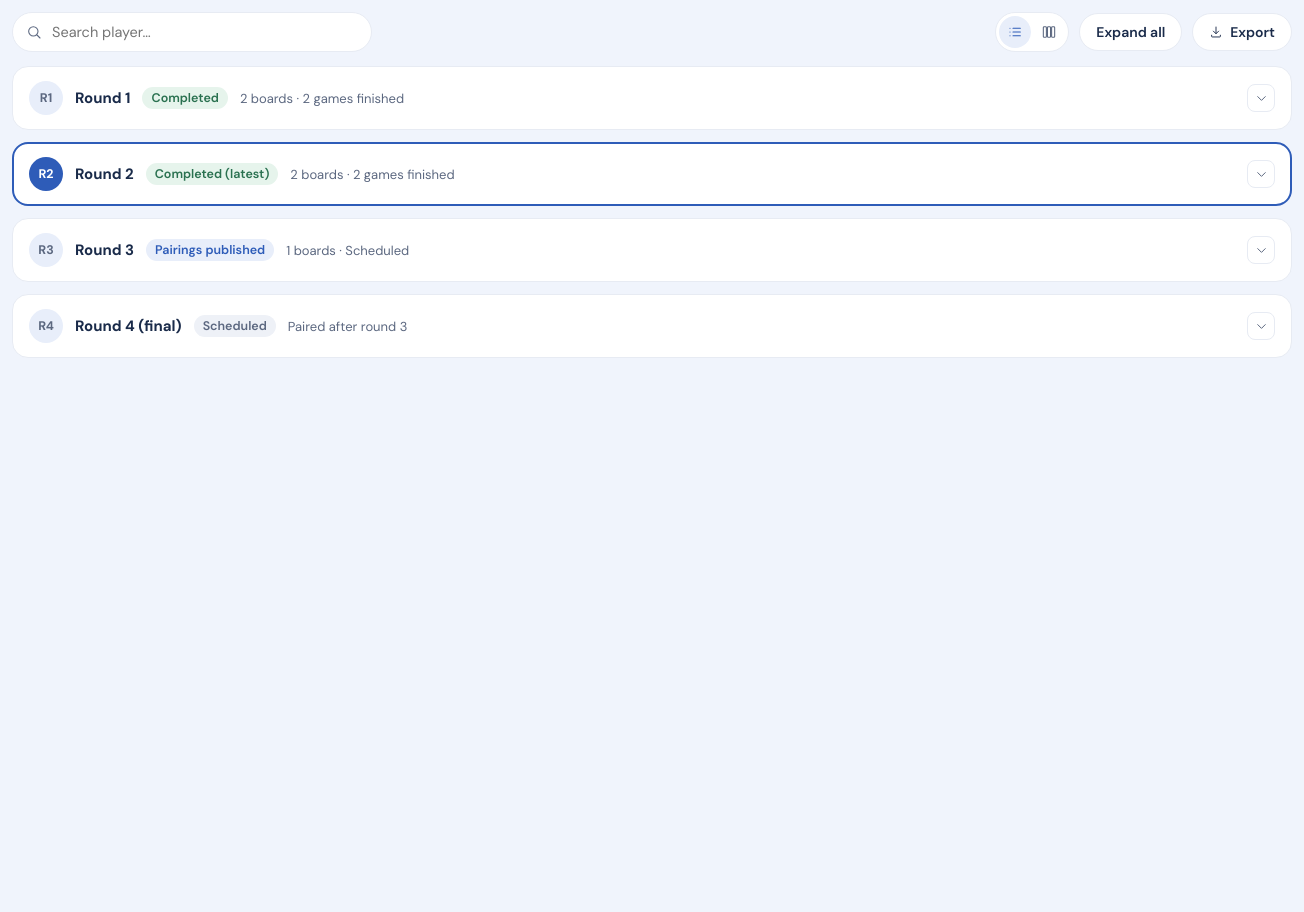
Scenario: the boards themselves › says vs on a board that has not been played
Click the button "Expand all" at (1131, 32), box [1079, 13, 1182, 51]
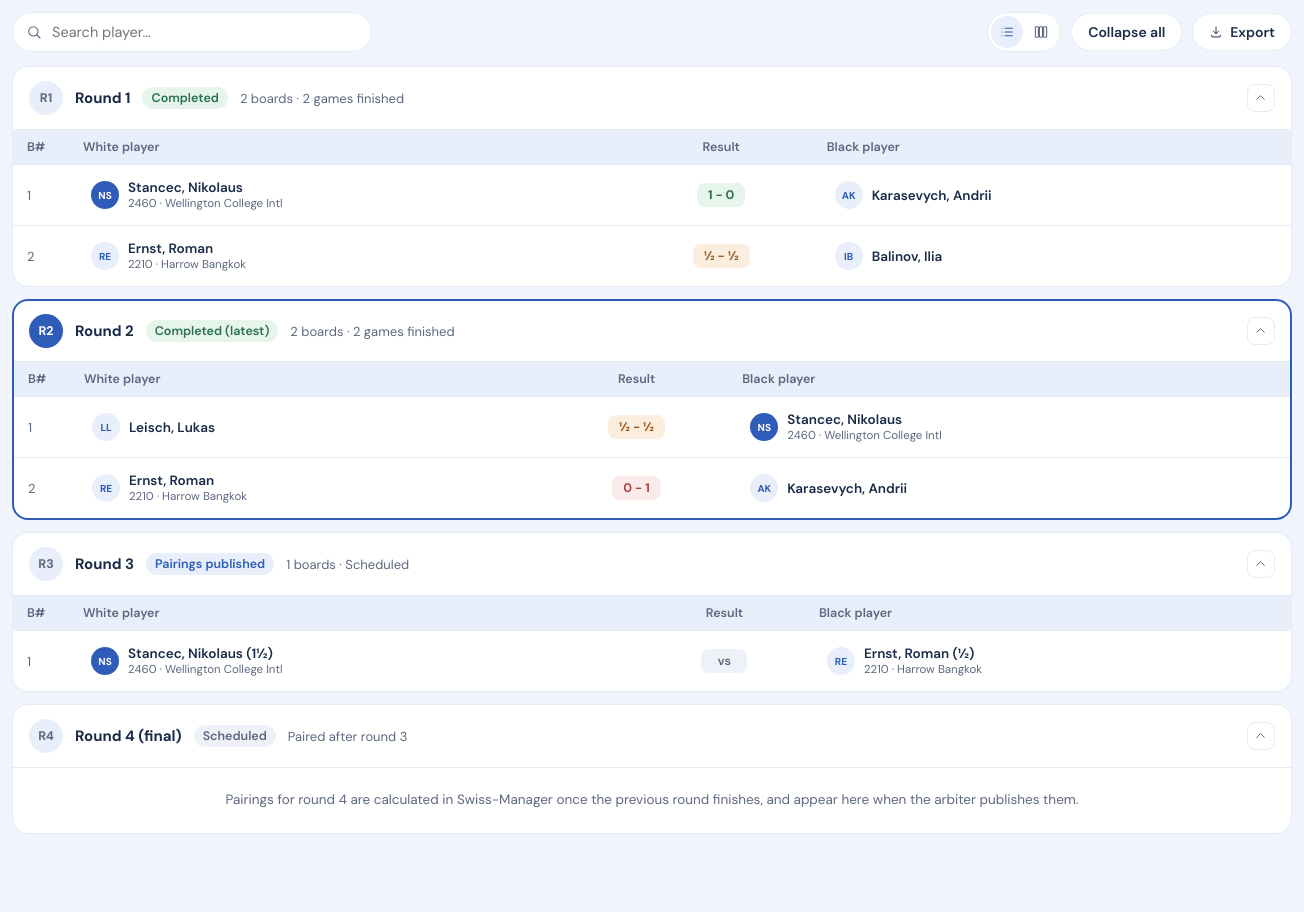
Check: the text "vs" is shown once, box [701, 649, 747, 673]
